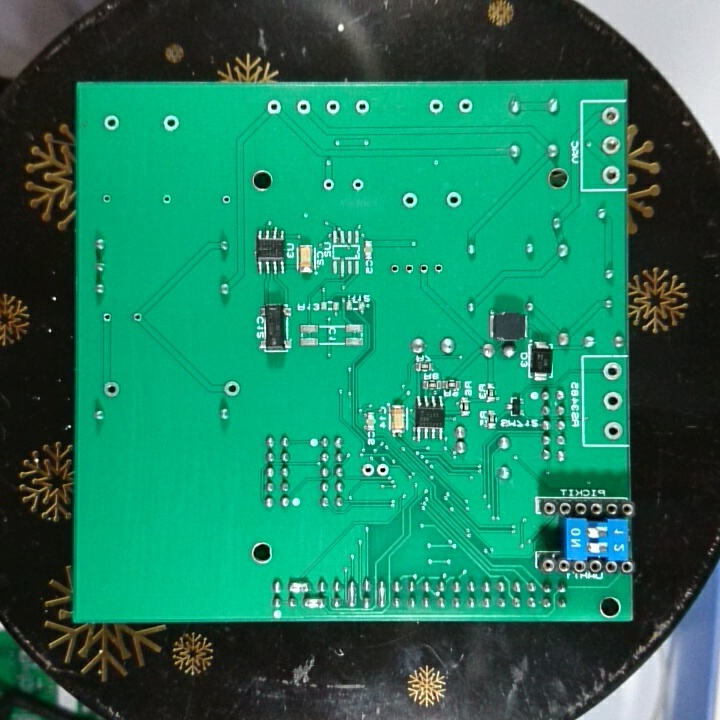F: (600, 360, 625, 383), (599, 133, 622, 158), (599, 162, 622, 186), (600, 389, 623, 412), (599, 104, 622, 127), (99, 112, 123, 134), (351, 96, 374, 118), (455, 95, 477, 117), (221, 377, 243, 399), (602, 418, 623, 441), (160, 112, 182, 133), (100, 378, 122, 399), (294, 95, 314, 118), (263, 97, 284, 118), (399, 189, 420, 210), (443, 187, 463, 209), (426, 97, 447, 116), (348, 175, 368, 194), (324, 97, 342, 117), (319, 175, 337, 194), (375, 460, 391, 480), (359, 461, 376, 479), (99, 309, 115, 327), (130, 309, 145, 327), (402, 258, 416, 277), (431, 259, 445, 278), (415, 260, 431, 276), (99, 191, 114, 208), (159, 190, 174, 207), (387, 260, 402, 276), (219, 191, 234, 206)
P: (344, 577, 359, 611), (374, 576, 388, 611), (287, 577, 314, 595), (302, 595, 328, 612)
